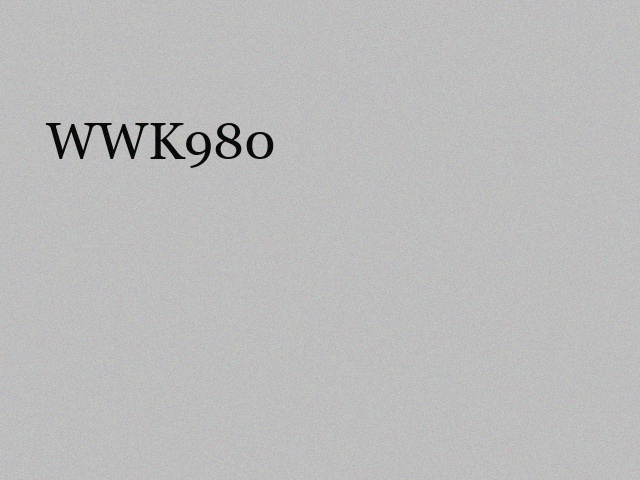OCR_AREA: (41, 119, 280, 172)
